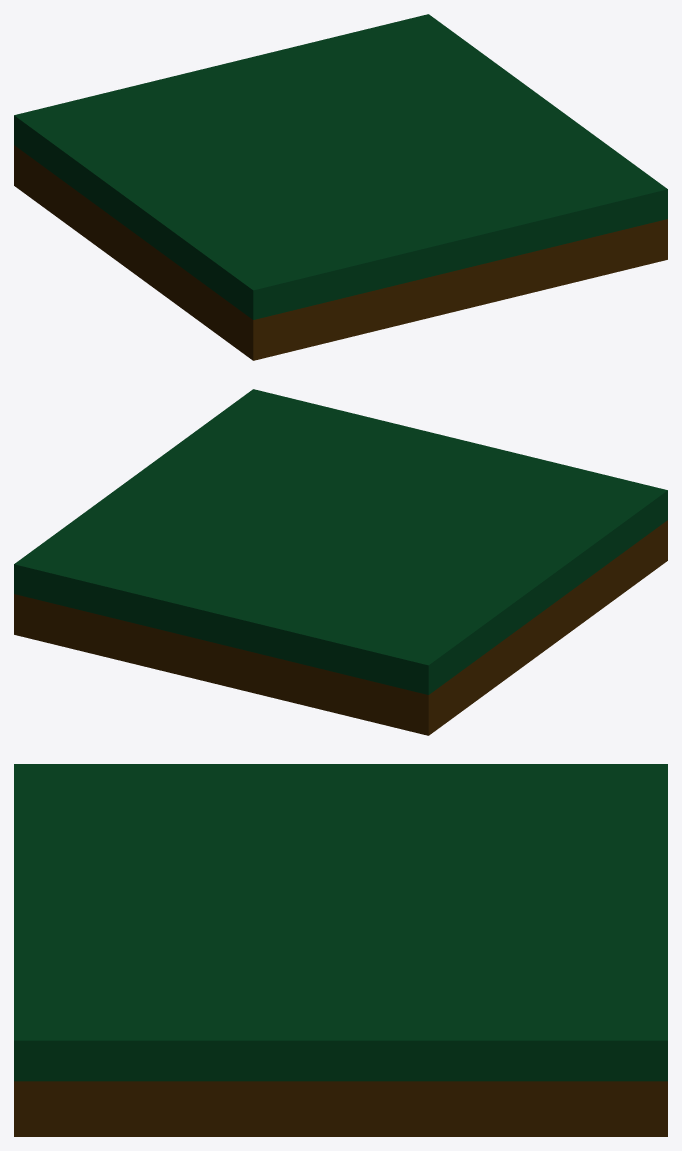
The model's file is piatt bordata.fbx.
3 views of the same model, one above another, from view 1: azimuth 30°, elevation 25°; view 2: azimuth 150°, elevation 25°; view 3: azimuth 270°, elevation 25° (orthographic). The views are drawn at different scales.
Visible parts, largest first — view 1: pCube2; view 2: pCube2; view 3: pCube2.
Part boxes in pixels (x1,y1,x2,y2): pCube2: [14, 14, 667, 360]; pCube2: [14, 389, 667, 735]; pCube2: [14, 764, 667, 1136].
Bounding box in the file's own units: 3.99 × 0.6482 × 3.99.
